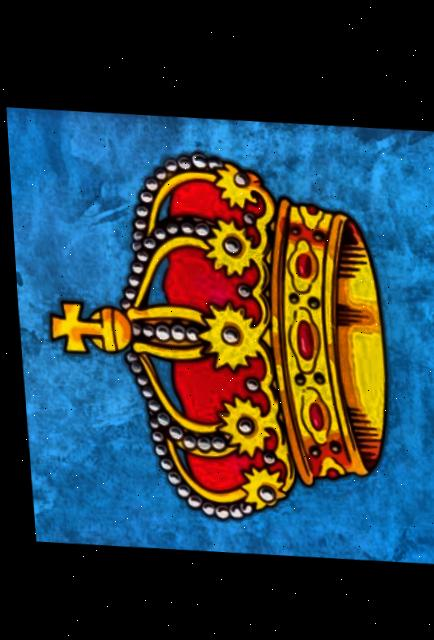La Corona: (5, 99, 434, 566)
